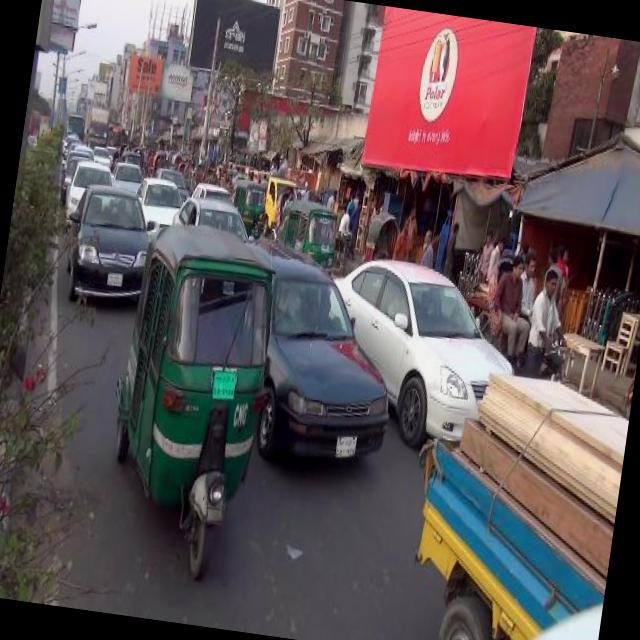bus: (61, 110, 85, 142), (106, 120, 128, 154)
car: (312, 244, 534, 472), (250, 235, 416, 482), (57, 172, 161, 314), (128, 170, 186, 237), (66, 156, 113, 216), (107, 154, 145, 196), (91, 144, 113, 165)
motorcycle: (89, 212, 288, 588), (472, 240, 581, 388), (274, 187, 344, 263), (222, 170, 274, 242), (362, 201, 416, 262), (232, 176, 271, 242), (276, 180, 304, 230), (198, 158, 222, 190), (121, 146, 146, 172), (174, 156, 194, 188), (149, 150, 166, 182), (192, 160, 208, 187)
truck: (392, 359, 633, 640), (259, 172, 300, 235), (79, 100, 112, 152)
